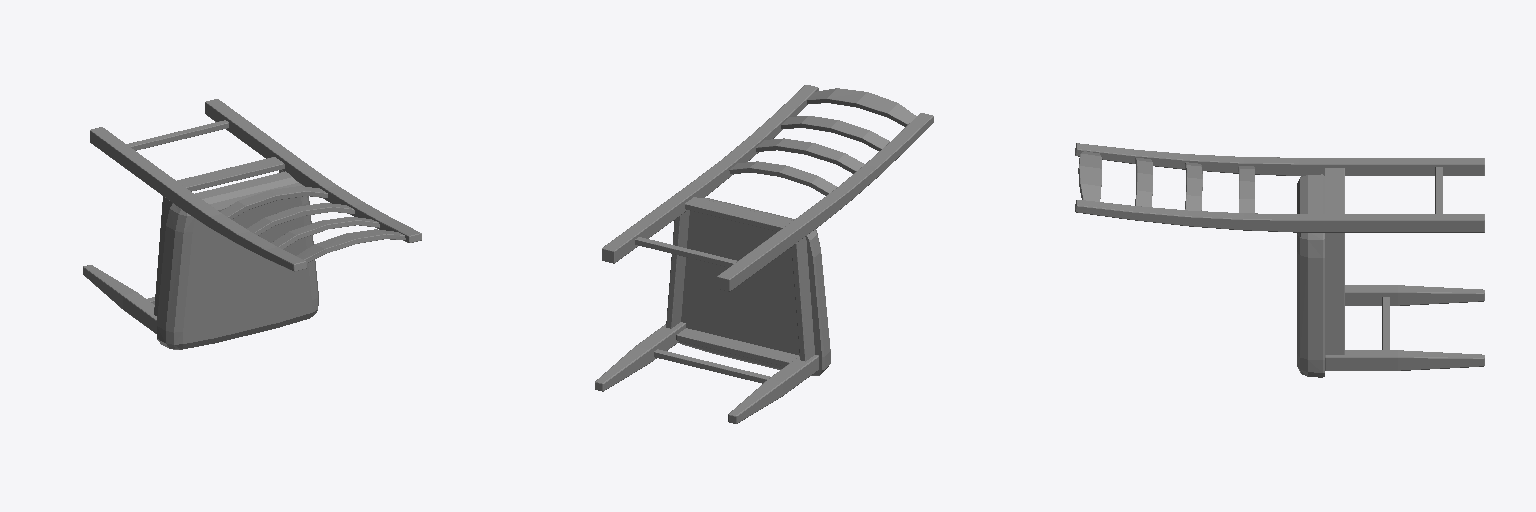
Rendered from 10214_Armless_Dinner_Chair_v2_max2011.obj.
3 views of the same model, side by side, from view 1: azimuth 30°, elevation 25°; view 2: azimuth 150°, elevation 25°; view 3: azimuth 270°, elevation 25° (orthographic).
Parts seen in each view (by area): view 1: 10214_Armless_Dinner_Chair_v1; view 2: 10214_Armless_Dinner_Chair_v1; view 3: 10214_Armless_Dinner_Chair_v1.
Boxes of the visible parts, <box> form: 10214_Armless_Dinner_Chair_v1: <box>83,99,421,349</box>; 10214_Armless_Dinner_Chair_v1: <box>595,85,933,423</box>; 10214_Armless_Dinner_Chair_v1: <box>1075,143,1484,377</box>.
Bounding box in the file's own units: 44.11 × 48.94 × 100.